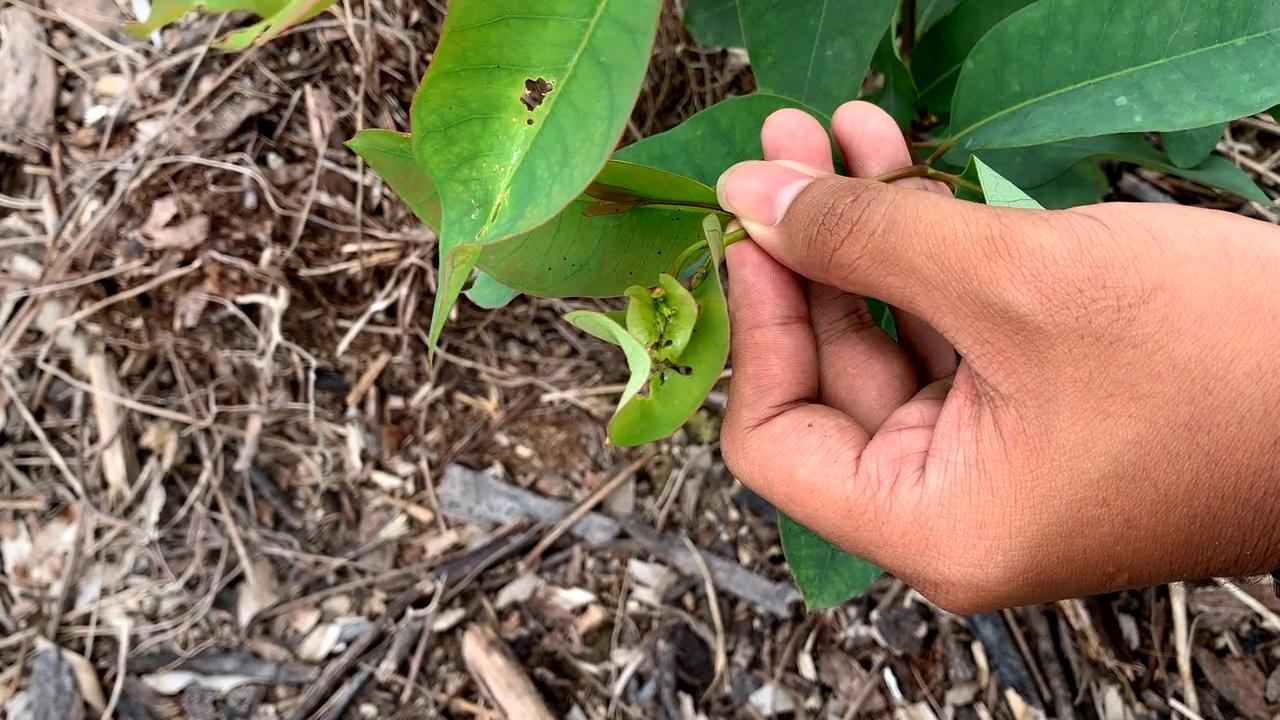Leaf Roller - Leaf: (620, 276, 699, 380)
